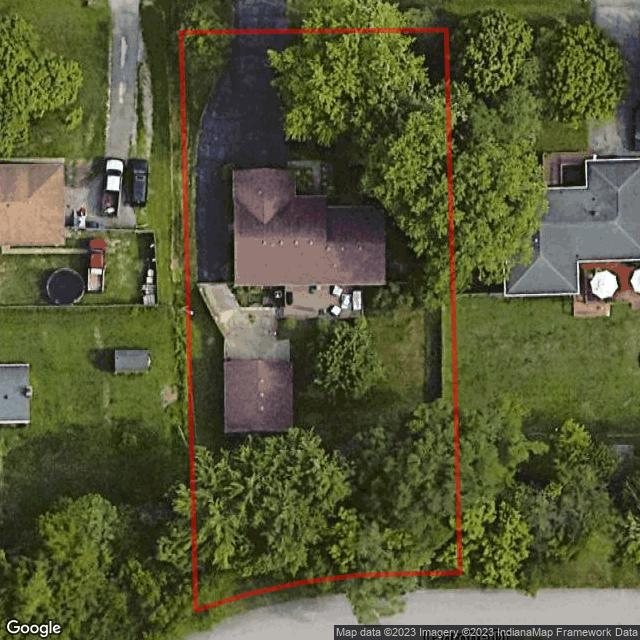Driveway: (195, 34, 291, 283)
House: (232, 170, 383, 286)
Other: (195, 282, 292, 432), (352, 290, 361, 311), (341, 294, 351, 309), (330, 306, 340, 316), (332, 285, 341, 294)
Sidewalk: (279, 286, 341, 318), (287, 159, 323, 196)
